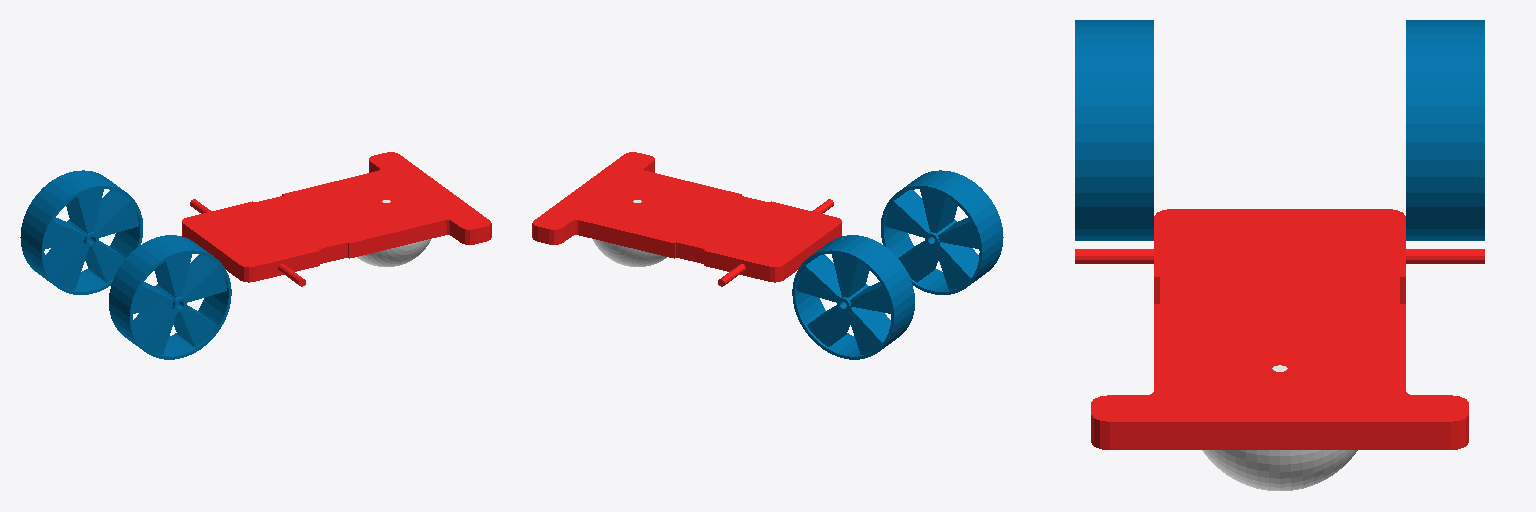
URDF robot description (robot_package):
<?xml version="1.0" encoding="utf-8"?>
<!-- This URDF was automatically created by SolidWorks to URDF Exporter! Originally created by [author] ([email redacted]) 
     Commit Version: 1.6.0-1-g15f4949  Build Version: 1.6.7594.29634
     For more information, please see http://wiki.ros.org/sw_urdf_exporter -->
<robot
  name="robot_package">

  <link name="base_link">
    <origin xyz="0.0837309089334095 0 -0.005"/>
  </link>

    <joint name="body_joint" type="fixed">
      <parent link="base_link"/>
      <child link="body_link"/>
      <origin xyz="0.0837309089334095 0 -0.005"/>
    </joint>

    <link name="body_link">
    <inertial>
      <origin
        xyz="0.0837309089334095 0 -0.005"
        rpy="0 0 0" />
      <mass
        value="0.135560486526924" />
      <inertia
        ixx="8.99650928849354E-05"
        ixy="-3.6875275332451E-20"
        ixz="2.10960298165725E-21"
        iyy="0.0003117677496315"
        iyz="-6.11966463910784E-22"
        izz="0.000399486795574482" />
    </inertial>
    <visual>
      <origin
        xyz="0 0 0"
        rpy="0 0 0" />
      <geometry>
        <mesh
          filename="package://robot_package/meshes/body_link.STL" />
      </geometry>
      <material
        name="">
        <color
          rgba="1 0.168627450980392 0.168627450980392 1" />
      </material>
    </visual>
    <collision>
      <origin
        xyz="0 0 0"
        rpy="0 0 0" />
      <geometry>
        <mesh
          filename="package://robot_package/meshes/body_link.STL" />
      </geometry>
    </collision>
  </link>

  <link
    name="wheel_left_link">
    <inertial>
      <origin
        xyz="5.5511E-17 -4.1633E-17 0.0125"
        rpy="0 0 0" />
      <mass
        value="0.046482" />
      <inertia
        ixx="1.7338E-05"
        ixy="2.3928E-20"
        ixz="-1.576E-21"
        iyy="1.7338E-05"
        iyz="-1.2557E-22"
        izz="3.0897E-05" />
    </inertial>
    <visual>
      <origin
        xyz="0 0 0"
        rpy="0 0 0" />
      <geometry>
        <mesh
          filename="package://robot_package/meshes/wheel_left_link.STL" />
      </geometry>
      <material
        name="">
        <color
          rgba="0.039216 0.4902 0.7098 1" />
      </material>
    </visual>
    <collision>
      <origin
        xyz="0 0 0"
        rpy="0 0 0" />
      <geometry>
        <mesh
          filename="package://robot_package/meshes/wheel_left_link.STL" />
      </geometry>
    </collision>
  </link>

  <joint
    name="wheel_left_joint"
    type="continuous">
    <parent
      link="base_link" />
    <child
      link="wheel_left_link" />    
    <origin
      xyz="0.025 0.04 -0.005"
      rpy="-1.5708 0 0" />
    <axis
      xyz="0 0 -1" />
  </joint>

  <link
    name="wheel_right_link">
    <inertial>
      <origin
        xyz="5.5511E-17 4.1633E-17 0.0125"
        rpy="0 0 0" />
      <mass
        value="0.046482" />
      <inertia
        ixx="1.7338E-05"
        ixy="-2.4478E-20"
        ixz="1.5487E-21"
        iyy="1.7338E-05"
        iyz="-4.9773E-22"
        izz="3.0897E-05" />
    </inertial>
    <visual>
      <origin
        xyz="0 0 0"
        rpy="0 0 0" />
      <geometry>
        <mesh
          filename="package://robot_package/meshes/wheel_right_link.STL" />
      </geometry>
      <material
        name="">
        <color
          rgba="0.039216 0.4902 0.7098 1" />
      </material>
    </visual>
    <collision>
      <origin
        xyz="0 0 0"
        rpy="0 0 0" />
      <geometry>
        <mesh
          filename="package://robot_package/meshes/wheel_right_link.STL" />
      </geometry>
    </collision>
  </link>

  <joint
    name="wheel_right_joint"
    type="continuous">
    <origin
      xyz="0.025 -0.04 -0.005"
      rpy="1.5708 0 0" />
    <parent
      link="base_link" />
    <child
      link="wheel_right_link" />
    <axis
      xyz="0 0 1" />
  </joint>

  <link
    name="caster_wheel_link">
    <inertial>
      <origin
        xyz="0 0 0"
        rpy="0 0 0" />
      <mass
        value="0" />
      <inertia
        ixx="0"
        ixy="0"
        ixz="0"
        iyy="0"
        iyz="0"
        izz="0" />
    </inertial>
    <visual>
      <origin
        xyz="0 0 0"
        rpy="0 0 0" />
      <geometry>
        <mesh
          filename="package://robot_package/meshes/caster_wheel_link.STL" />
      </geometry>
      <material
        name="">
        <color
          rgba="1 1 1 1" />
      </material>
    </visual>
    <collision>
      <origin
        xyz="0 0 0"
        rpy="0 0 0" />
      <geometry>
        <mesh
          filename="package://robot_package/meshes/caster_wheel_link.STL" />
      </geometry>
    </collision>
  </link>

  <joint
    name="caster_wheel_joint"
    type="fixed">
    <origin
      xyz="0.12 0 0"
      rpy="0 0 0" />
    <parent
      link="body_link" />
    <child
      link="caster_wheel_link" />
    <axis
      xyz="0 0 1" />
  </joint>
</robot>

--- Render facts (derived) ---
3 views of the same robot in one strip: view 1: azimuth 30°, elevation 25°; view 2: azimuth 150°, elevation 25°; view 3: azimuth 270°, elevation 25° (orthographic).
Model robot_package with 5 links and 4 joints (2 continuous, 2 fixed), rooted at base_link, posed all joints at 0.
Links seen in each view (by area): view 1: body_link, wheel_right_link, wheel_left_link, caster_wheel_link; view 2: body_link, wheel_left_link, wheel_right_link, caster_wheel_link; view 3: body_link, wheel_left_link, wheel_right_link, caster_wheel_link.
Link boxes in pixels (bbox=[...]): body_link: bbox=[182, 152, 491, 286]; wheel_right_link: bbox=[109, 235, 231, 359]; wheel_left_link: bbox=[20, 170, 142, 294]; caster_wheel_link: bbox=[357, 200, 430, 266]; body_link: bbox=[532, 152, 841, 286]; wheel_left_link: bbox=[792, 235, 914, 359]; wheel_right_link: bbox=[881, 170, 1003, 294]; caster_wheel_link: bbox=[593, 200, 666, 266]; body_link: bbox=[1075, 209, 1484, 449]; wheel_left_link: bbox=[1406, 20, 1484, 240]; wheel_right_link: bbox=[1075, 20, 1153, 240]; caster_wheel_link: bbox=[1202, 365, 1357, 490].
Bounding box of the posed robot: 0.2537 × 0.13 × 0.0749 m (x, y, z).
Meshes: 4 distinct files referenced, 4 mesh visuals loaded (4 binary STL).